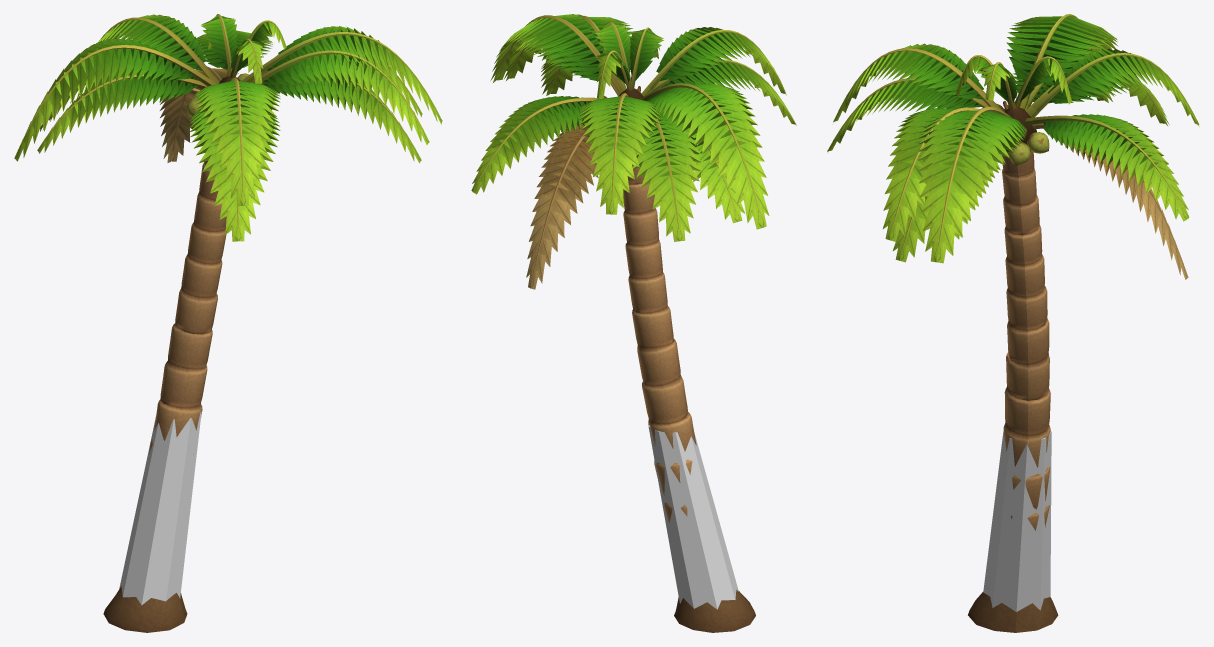
File: IO_Palm_Coconut_A.glb
3 views of the same model, side by side, from view 1: azimuth 30°, elevation 25°; view 2: azimuth 150°, elevation 25°; view 3: azimuth 270°, elevation 25° (orthographic). The views are drawn at different scales.
Parts seen in each view (by area): view 1: IO_Palm_Coconut_A_LOD0, IO_Palm_Coconut_A_COL; view 2: IO_Palm_Coconut_A_LOD0, IO_Palm_Coconut_A_COL; view 3: IO_Palm_Coconut_A_LOD0, IO_Palm_Coconut_A_COL.
Part boxes in pixels (box(x1,y1,x2,y2)): IO_Palm_Coconut_A_LOD0: box(14, 14, 442, 632); IO_Palm_Coconut_A_COL: box(119, 412, 201, 605); IO_Palm_Coconut_A_LOD0: box(471, 14, 796, 632); IO_Palm_Coconut_A_COL: box(648, 425, 738, 609); IO_Palm_Coconut_A_LOD0: box(827, 14, 1199, 632); IO_Palm_Coconut_A_COL: box(983, 431, 1051, 611).
Size of what is drawn, in the model's own units: 5.14 by 8.01 by 4.44.
4 materials, 4 textured.
